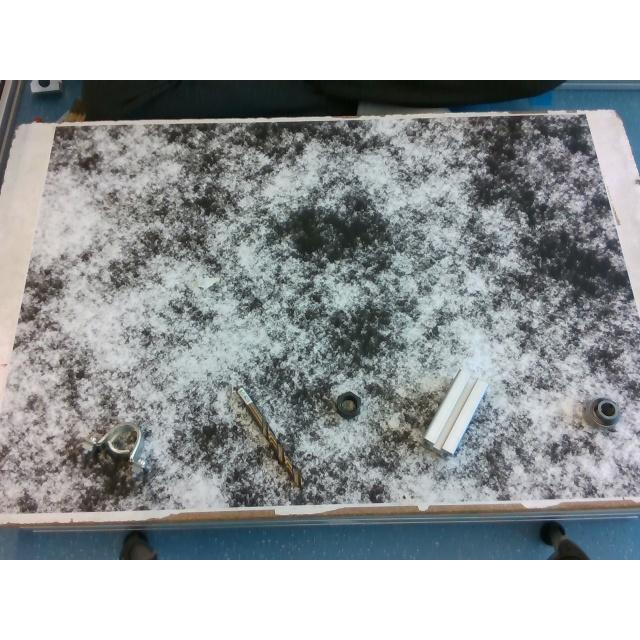Bearing2: (581, 396, 621, 428)
Drill: (230, 384, 302, 488)
Housing: (82, 420, 150, 476)
M20: (334, 391, 360, 419)
S40_40_G: (424, 366, 488, 456)
